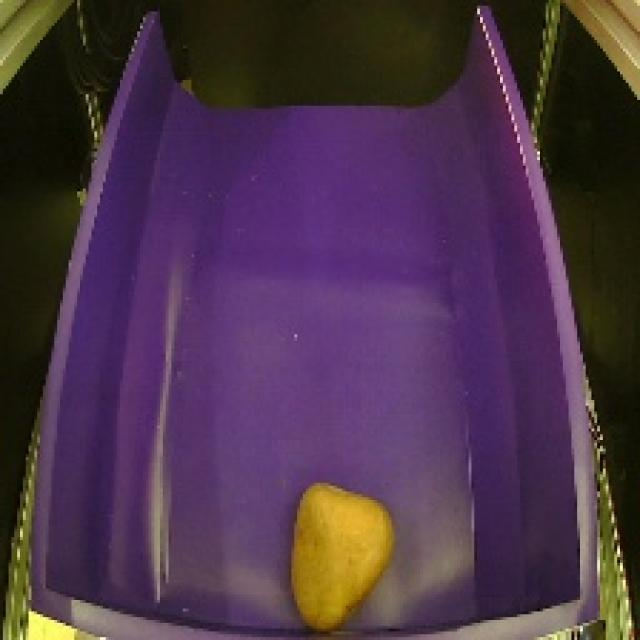cobbles: (281, 469, 400, 630)
